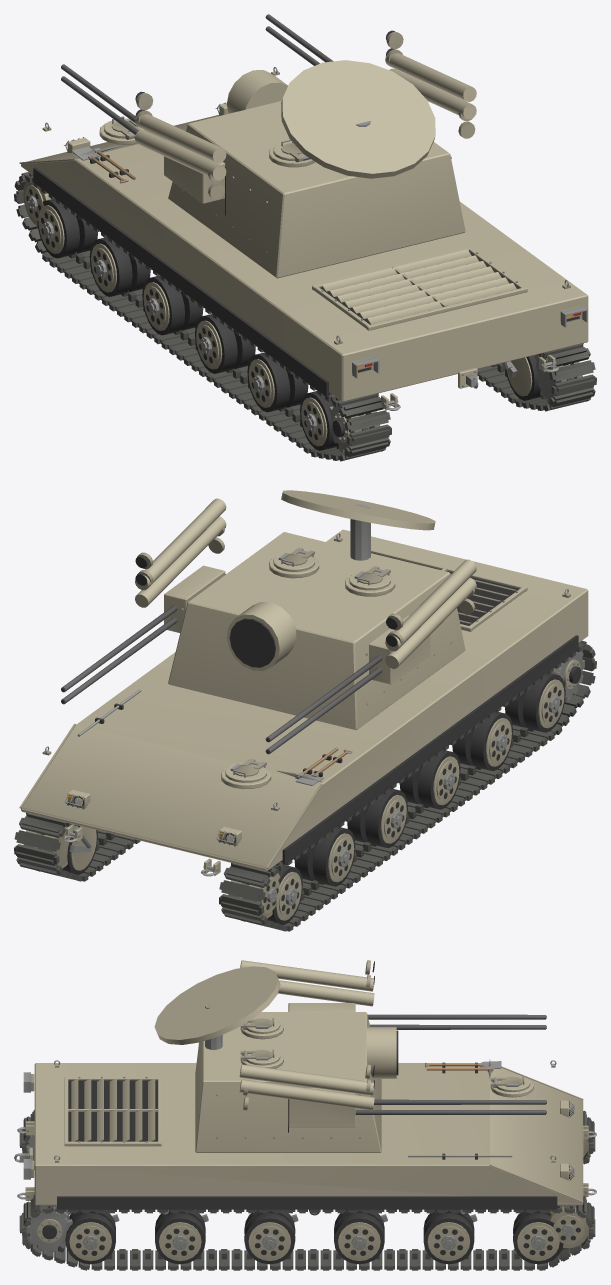
Rendered from rus_aa_tung.glb.
The picture shows the model from 3 angles, top to bottom: view 1: azimuth 30°, elevation 25°; view 2: azimuth 150°, elevation 25°; view 3: azimuth 270°, elevation 25°; orthographic projection. The views are drawn at different scales.
Visible parts, largest first — view 1: body, turret, barrel; view 2: body, turret, barrel; view 3: body, turret, barrel.
Boxes of the visible parts, <box> form: body: <box>14,67,596,461</box>; turret: <box>168,60,465,278</box>; barrel: <box>61,14,476,203</box>; body: <box>14,529,596,931</box>; turret: <box>168,490,465,730</box>; barrel: <box>61,498,476,754</box>; body: <box>14,1060,596,1270</box>; turret: <box>154,966,398,1152</box>; barrel: <box>239,960,546,1127</box>.
Size of the model in its own units: 3.49 by 3.55 by 7.81.
